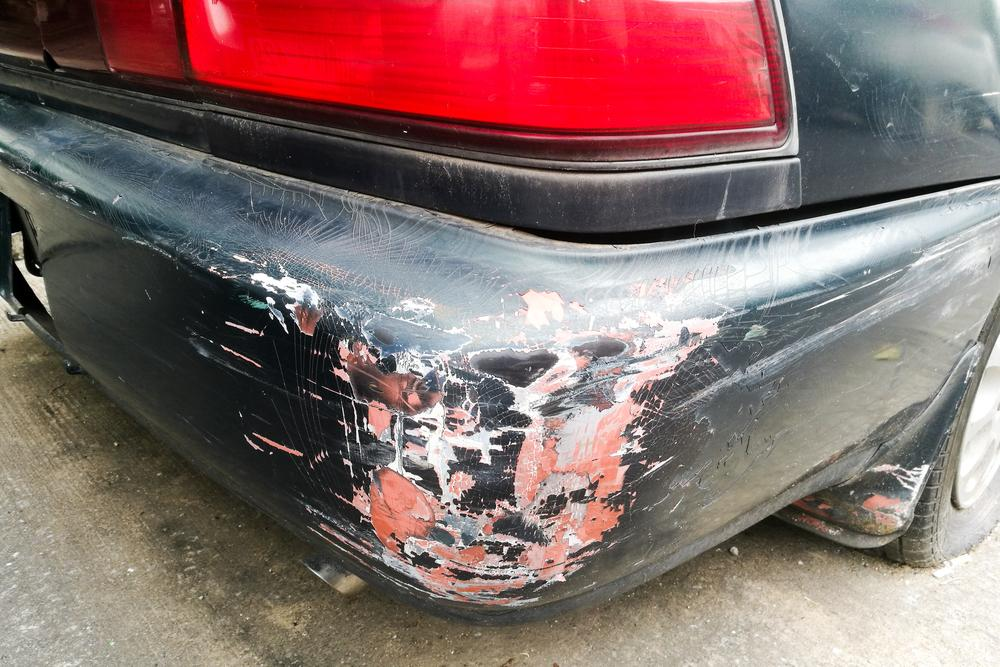scratch: (226, 218, 1000, 617)
